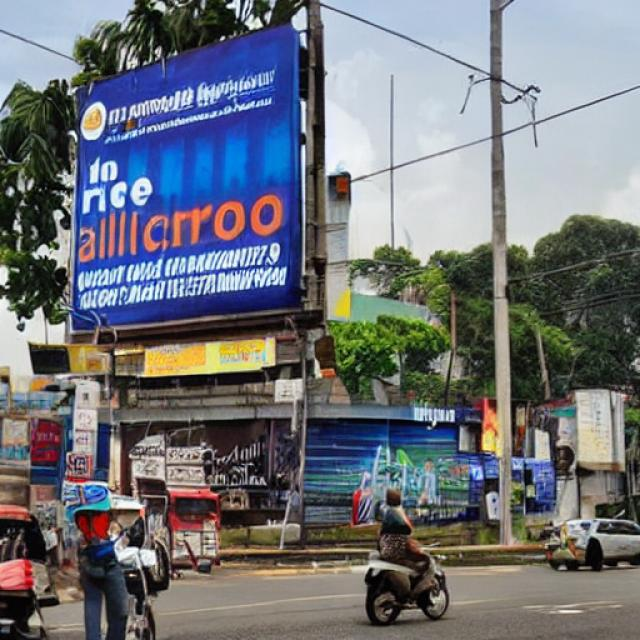Billboard: (63, 20, 305, 345)
